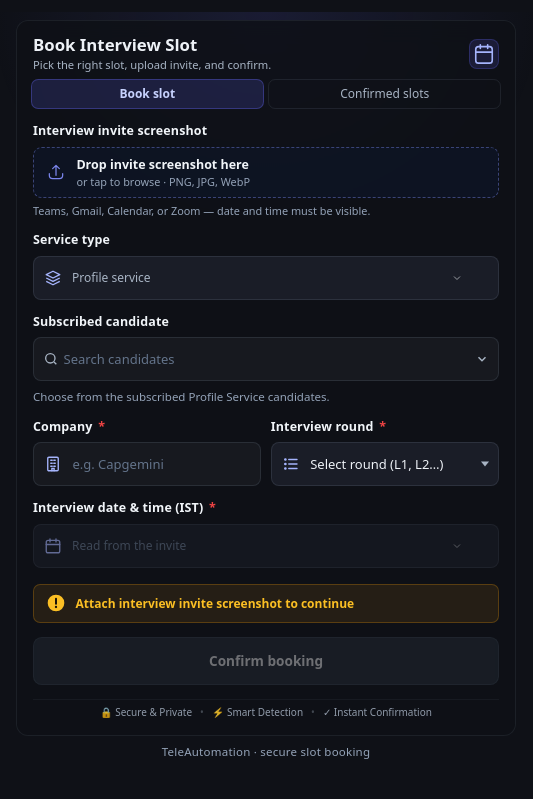
Test: Round-wise payment — non-roster candidate gets payment card › shows payment card for a manually typed name not in roster
Click the button "Profile service" at [111, 278], box [33,256,499,300]
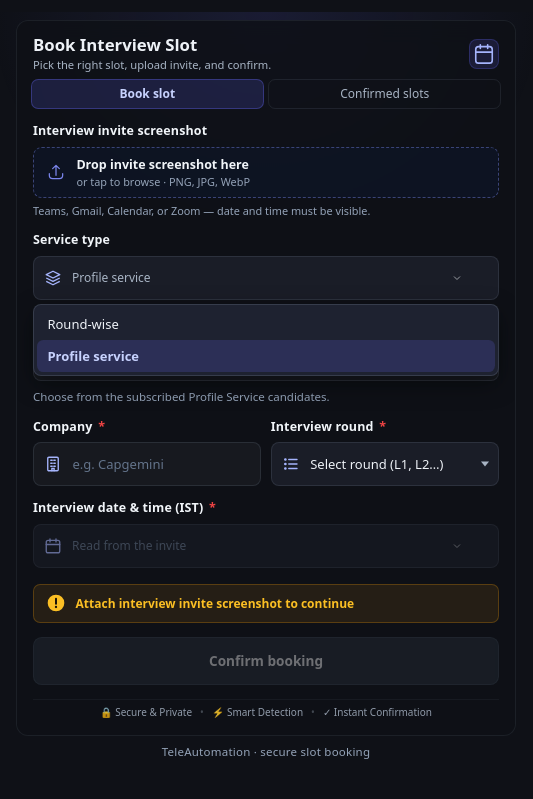
Click the list item "Round-wise" at [83, 324], box [47,315,119,333]
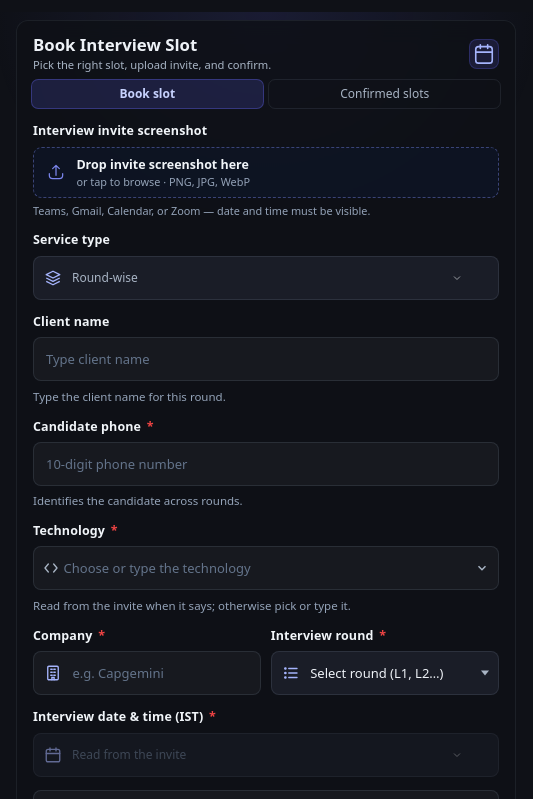
Type "venkat" into the field with placeholder "Type client name" at [266, 359], box [33,337,499,381]
(page scrolled)
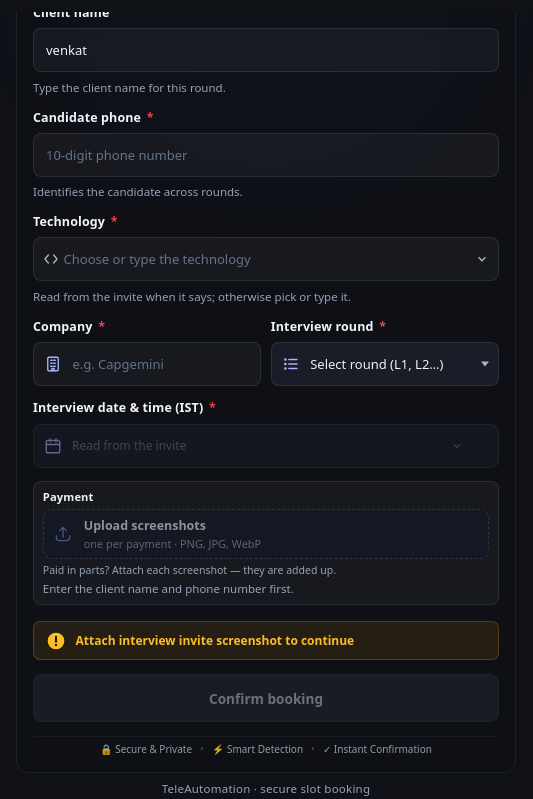
Check: the text "Paid in parts? Attach each screenshot — they are added up." is shown, box [43,563,336,577]
